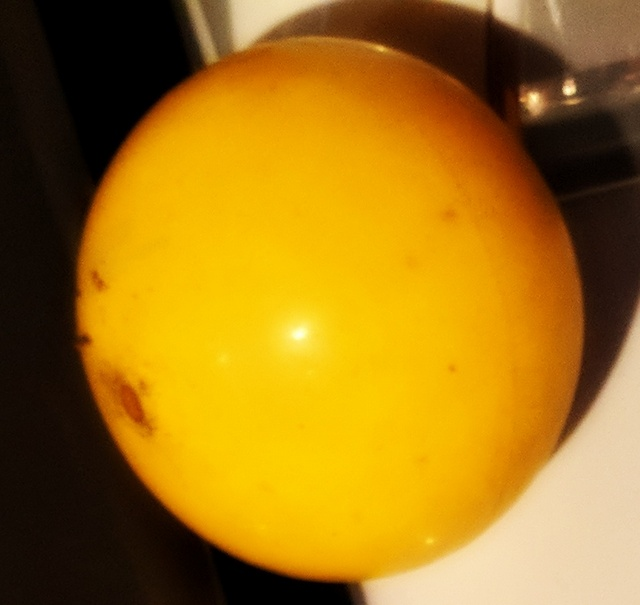ball: (75, 37, 587, 587)
